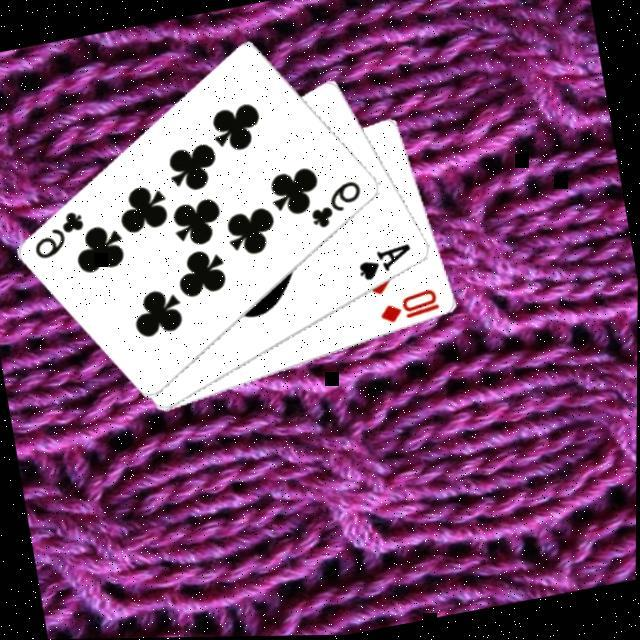10D: (376, 286, 446, 331)
9C: (305, 177, 371, 236), (27, 207, 93, 266)
AS: (354, 241, 420, 288)
